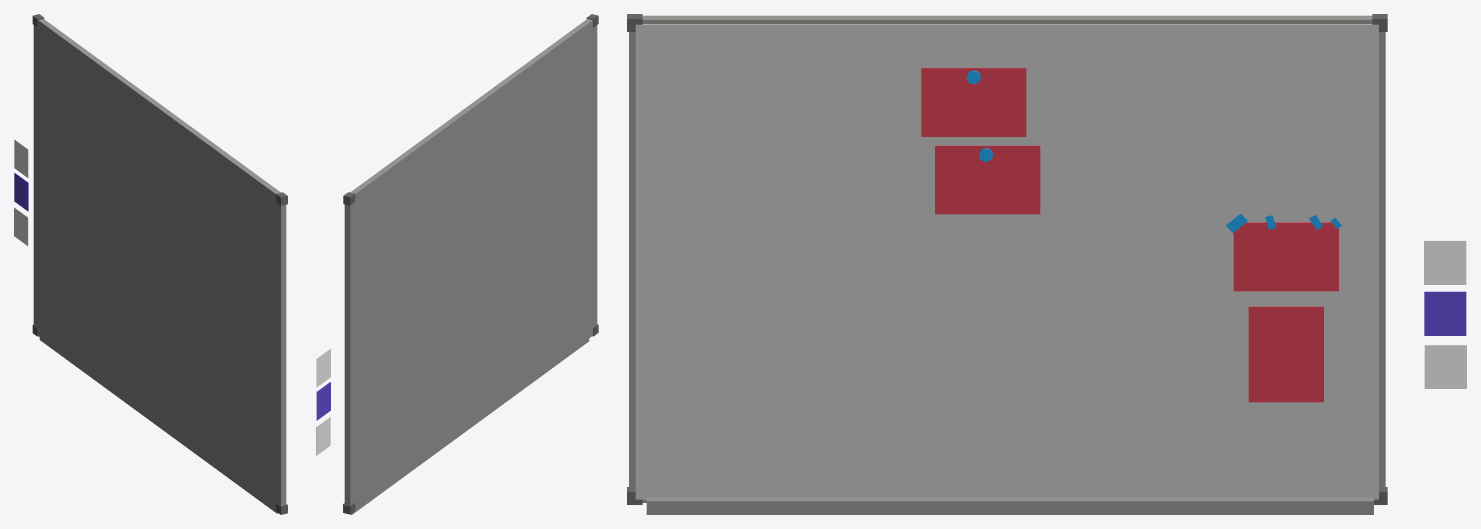
Rendered from WhiteBoard.fbx.
3 renders of one model, left to right at view 1: azimuth 30°, elevation 25°; view 2: azimuth 150°, elevation 25°; view 3: azimuth 270°, elevation 25°, orthographic. The views are drawn at different scales.
Parts seen in each view (by area): view 1: WhiteBoard, BlätterWhiteboard; view 2: WhiteBoard, BlätterWhiteboard; view 3: WhiteBoard, BlätterWhiteboard.
Part boxes in pixels (left/top/right/bottom): WhiteBoard: left=32, top=14, right=287, bottom=514; BlätterWhiteboard: left=14, top=139, right=28, bottom=245; WhiteBoard: left=343, top=14, right=598, bottom=514; BlätterWhiteboard: left=316, top=348, right=330, bottom=455; WhiteBoard: left=627, top=14, right=1387, bottom=514; BlätterWhiteboard: left=921, top=68, right=1466, bottom=402.
Size of the model in its own units: 5.65 by 150 by 231.
